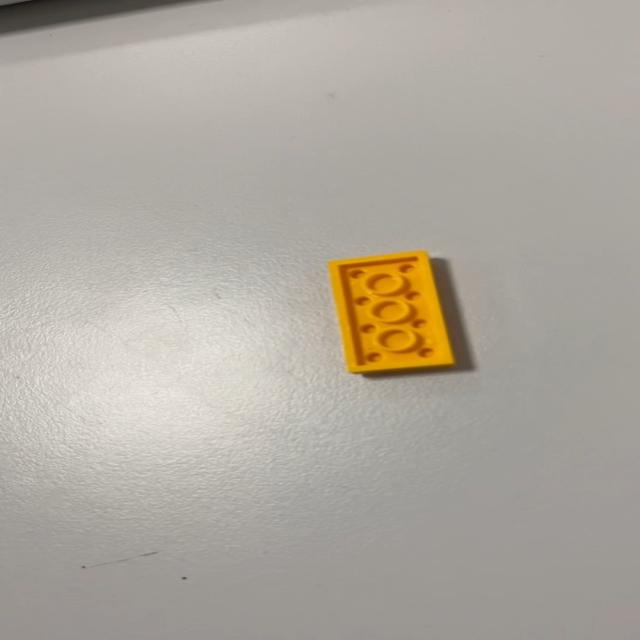C4x2x0: (326, 250, 458, 374)
